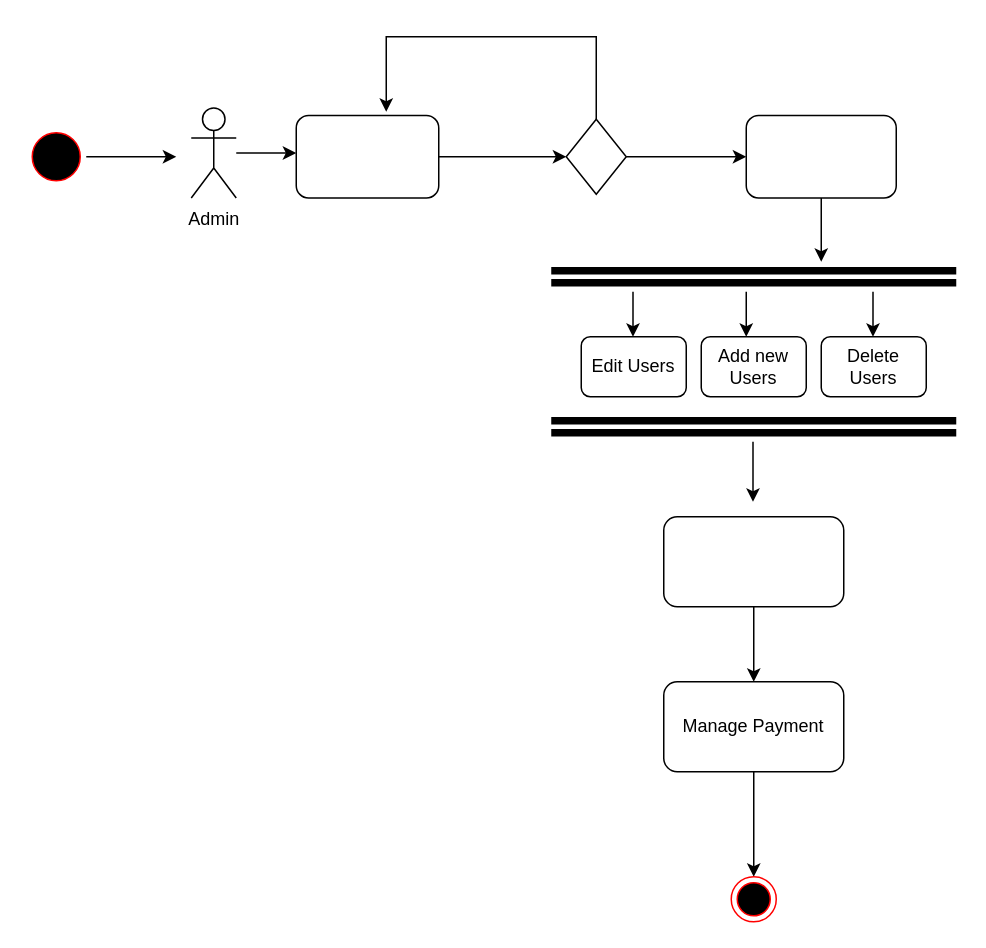
Image size: 986x948. Some labels were removed from this diagram. Here are the shapes that lost their labels. From the top down, the centre of each, then its label:
[367,156]: login
[820,156]: View Users
[753,561]: View Plans
